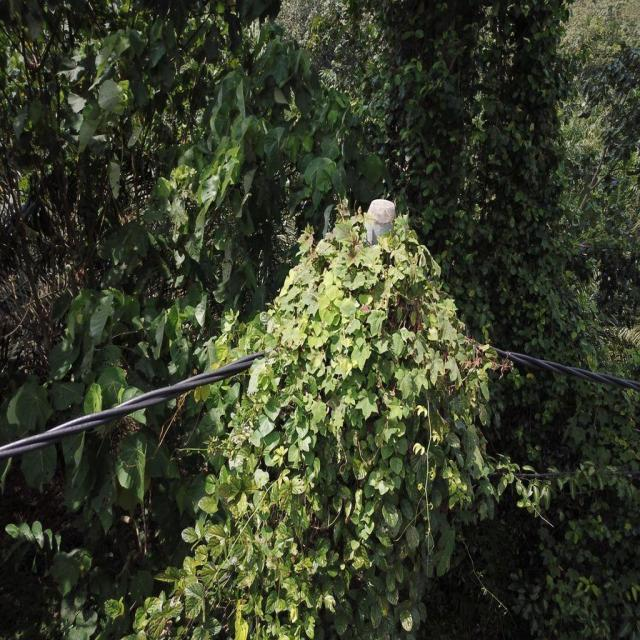critical vegetation: (162, 190, 497, 632)
